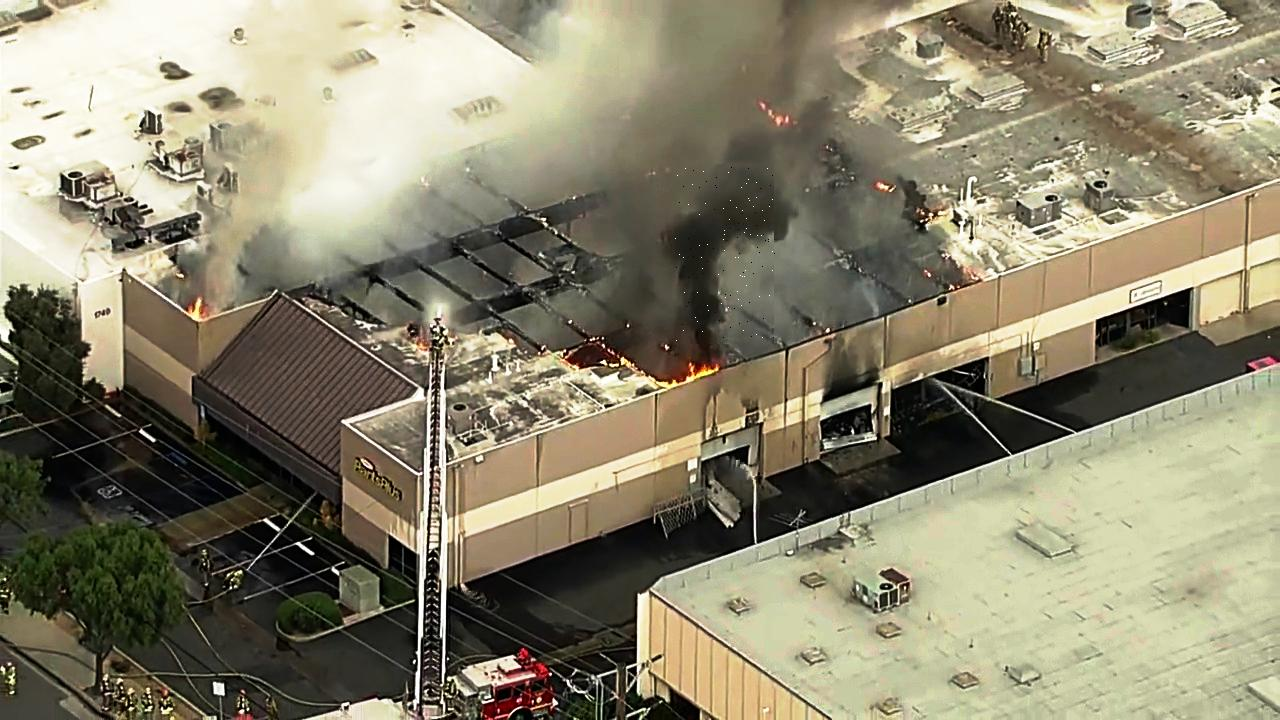smoke: (675, 164, 777, 344)
